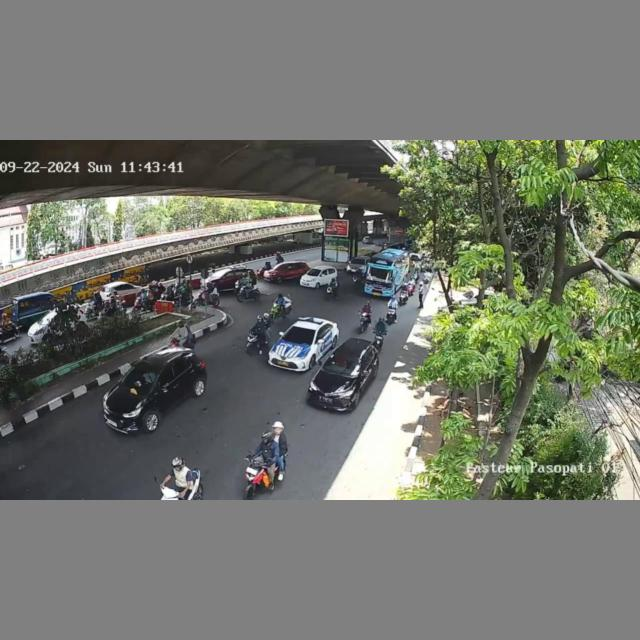windshield: (121, 364, 158, 398), (322, 354, 361, 376), (283, 327, 315, 345), (308, 268, 321, 276)
